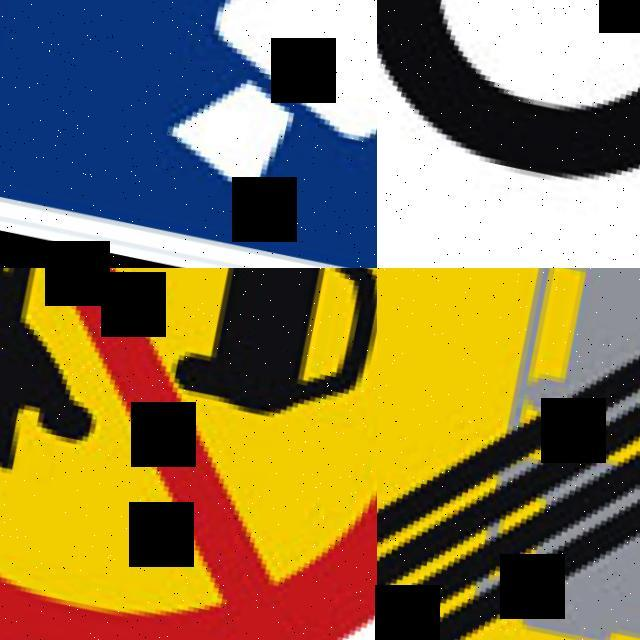1: (0, 0, 377, 268)
109: (377, 268, 640, 640)
68: (377, 0, 640, 268)
No entry for motor vehicles: (0, 268, 377, 640)
